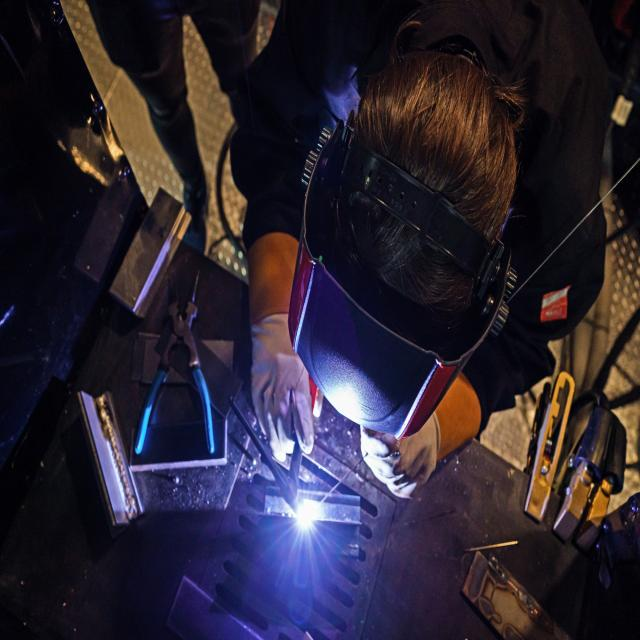welding: (296, 495, 320, 530)
